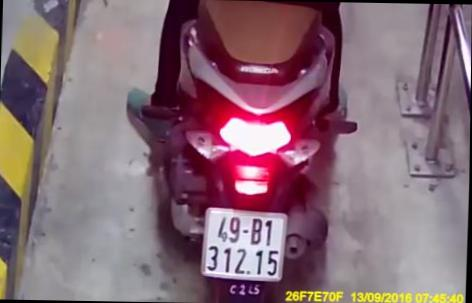LP: (201, 207, 288, 282)
